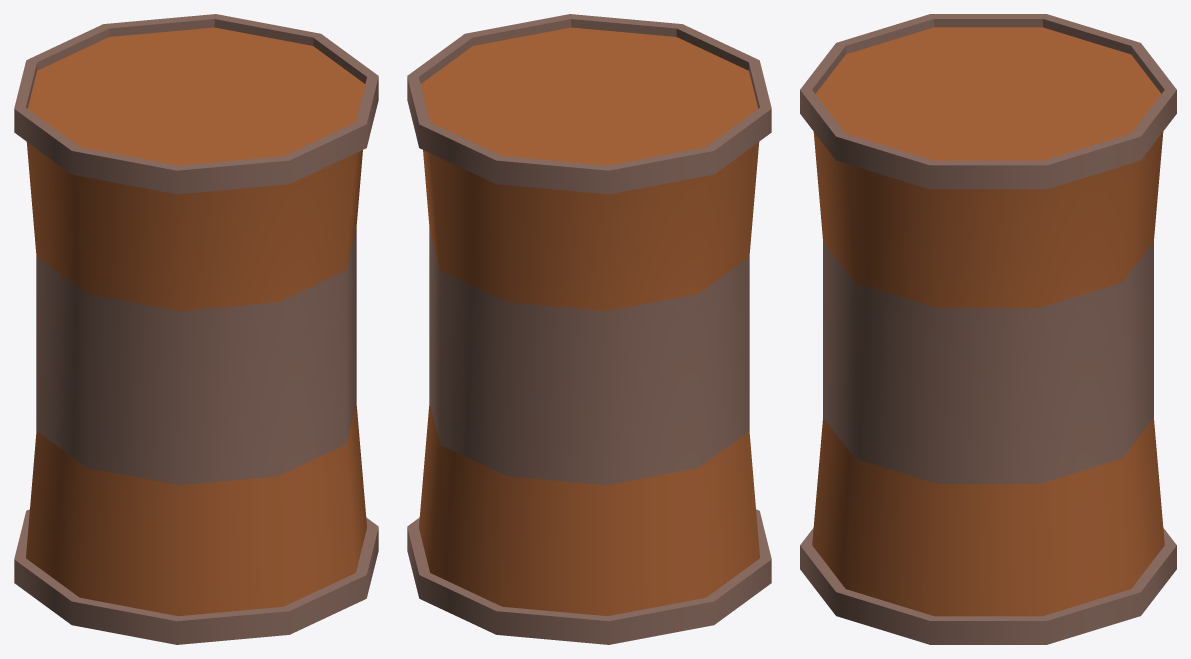
The model's file is Prop_Barrel_Mod.fbx.
3 views of the same model, side by side, from view 1: azimuth 30°, elevation 25°; view 2: azimuth 150°, elevation 25°; view 3: azimuth 270°, elevation 25° (orthographic).
Visible parts, largest first — view 1: Barrel; view 2: Barrel; view 3: Barrel.
Boxes of the visible parts, box(x1,y1,x2,y2) form: Barrel: box(14, 14, 378, 644); Barrel: box(407, 14, 771, 644); Barrel: box(800, 14, 1176, 644).
Size of the model in its own units: 2.03 by 3 by 2.14.
